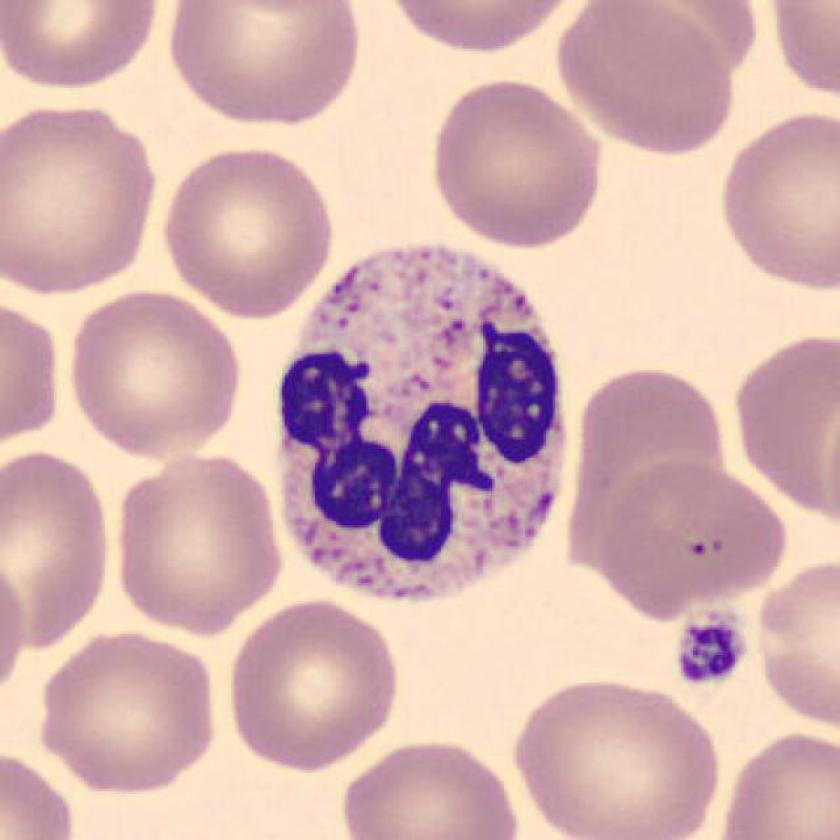neutrophil: (277, 248, 567, 601)
